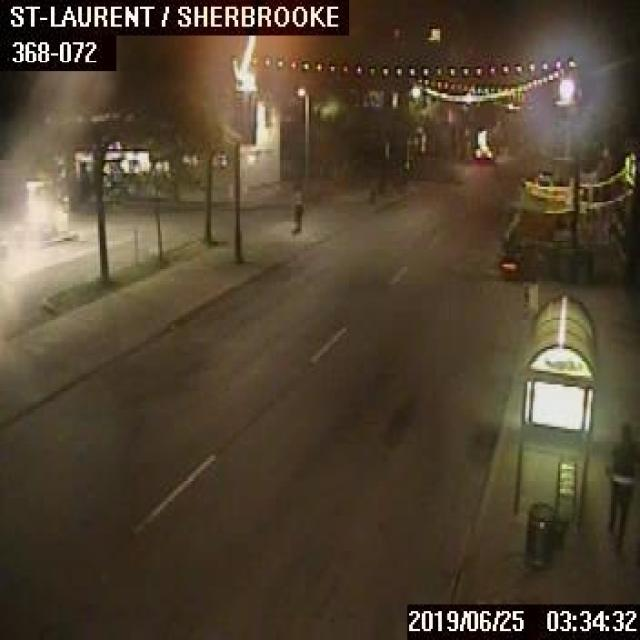pedestrian: (604, 422, 638, 544), (290, 185, 302, 235)
vehicle: (472, 142, 492, 162)
